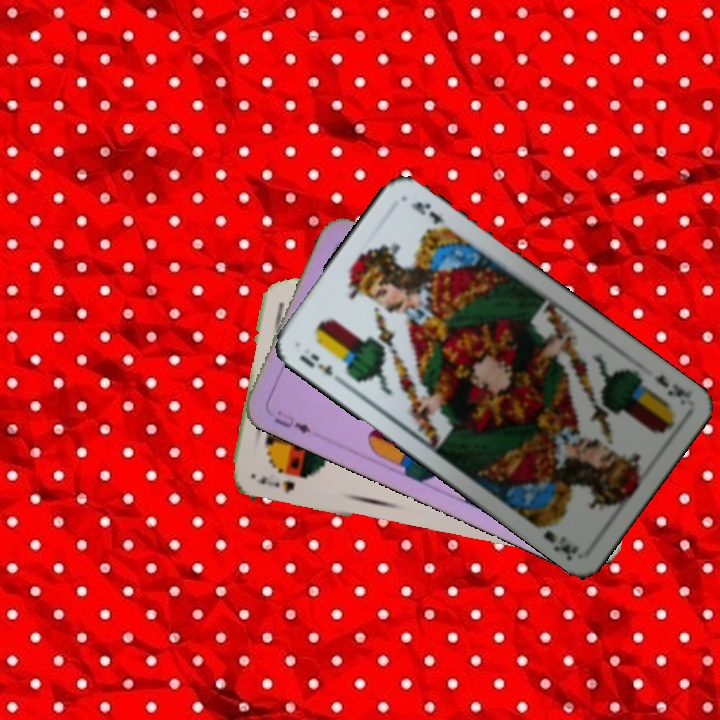EK: (649, 370, 694, 401), (295, 349, 336, 379)
EU: (270, 405, 314, 436)
SO: (254, 472, 297, 496)
